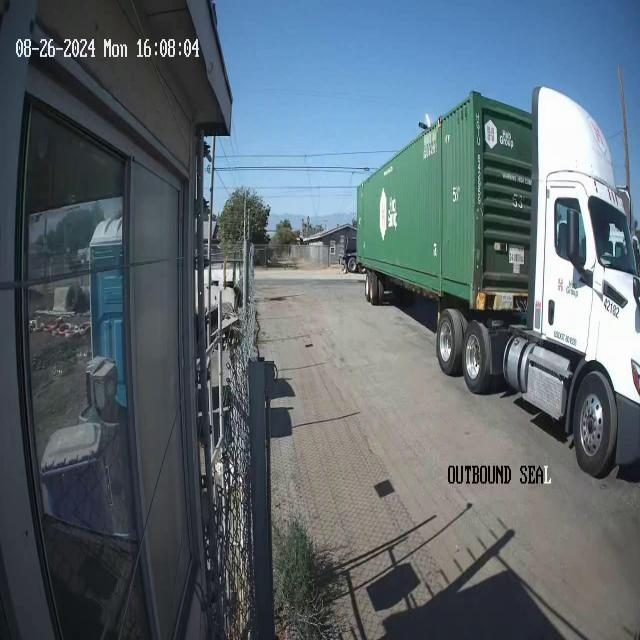TRUCK_IN: (355, 76, 639, 478)
